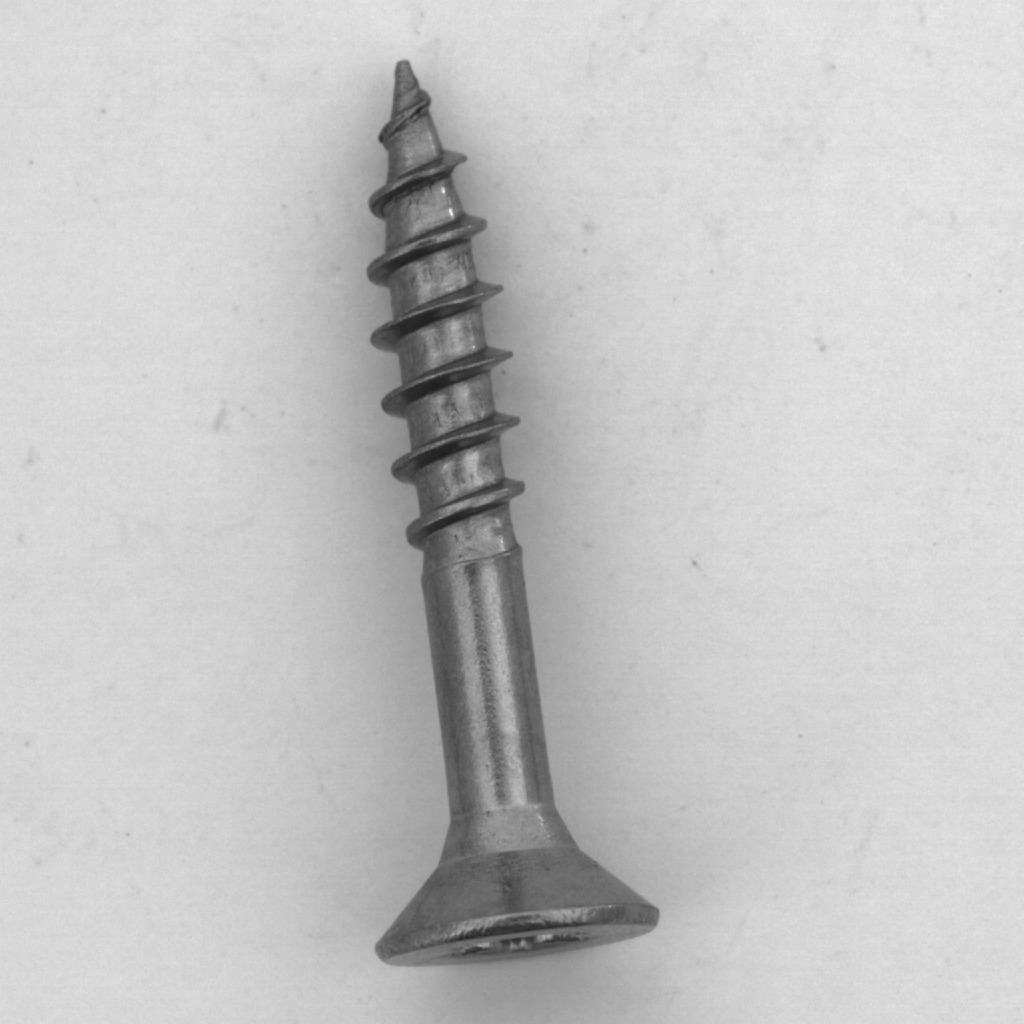good: (332, 39, 688, 983)
